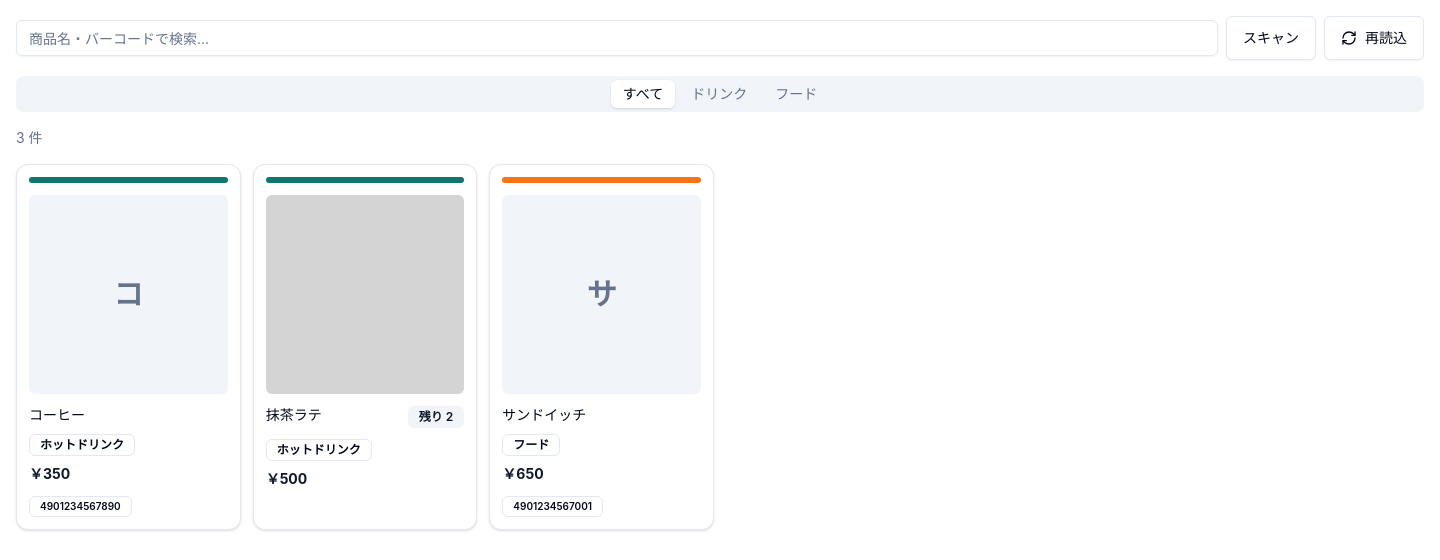
ProductsPage › フィルタ解除ボタンが表示され、クリックで全商品が表示される
The width and height of the screenshot is (1440, 560).
Expected: the text "コーヒー" is shown, top-left (29, 406), bottom-right (85, 423)
Note:  検索でフィルタ
Type "コーヒー" into the field with placeholder "商品名・バーコードで検索...".
click(617, 38); type("コーヒー")  # box top-left (16, 20), bottom-right (1218, 56)
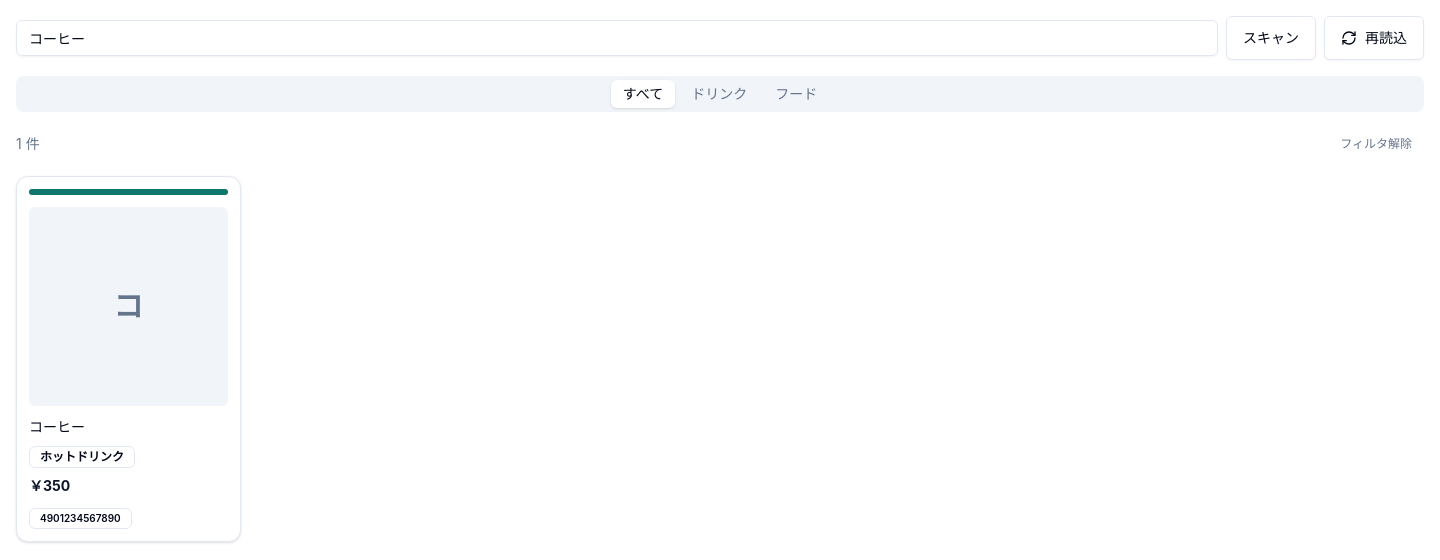
Expected: the button "サンドイッチ" is gone
Expected: the button "フィルタ解除" is shown
Click the button "フィルタ解除".
click(1376, 144)  # box top-left (1328, 128), bottom-right (1424, 160)
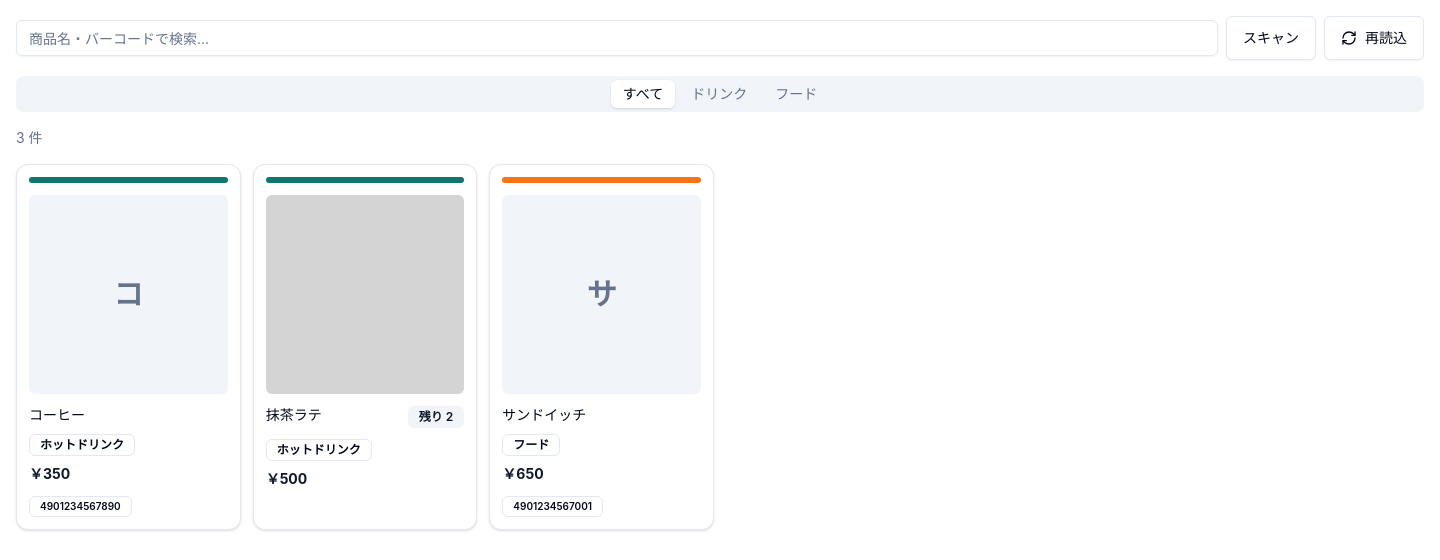
Expected: the text "コーヒー" is shown, top-left (29, 406), bottom-right (85, 423)
Expected: the text "サンドイッチ" is shown, top-left (502, 406), bottom-right (586, 423)
